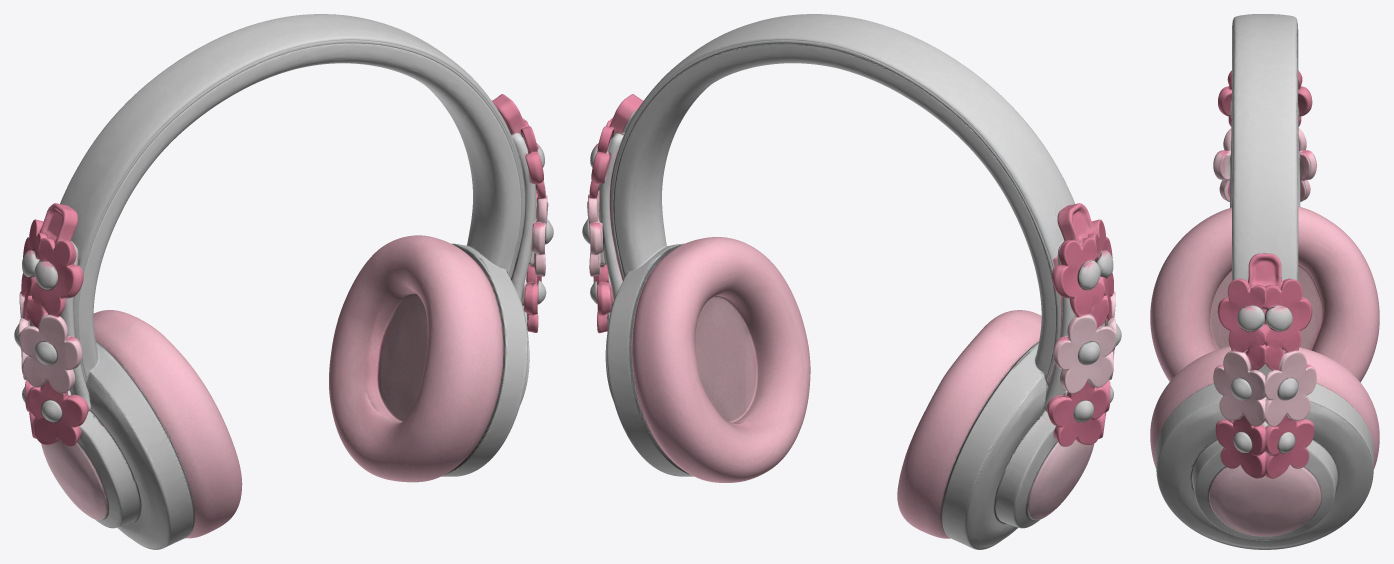
The model's file is Headphone.glb.
The picture shows the model from 3 angles, left to right: view 1: azimuth 30°, elevation 25°; view 2: azimuth 150°, elevation 25°; view 3: azimuth 270°, elevation 25°; orthographic projection. The views are drawn at different scales.
Visible parts, largest first — view 1: mesh_0; view 2: mesh_0; view 3: mesh_0.
Boxes of the visible parts, bbox=[...] form: mesh_0: bbox=[14, 14, 553, 549]; mesh_0: bbox=[582, 14, 1121, 549]; mesh_0: bbox=[1150, 14, 1379, 549].
Bounding box in the file's own units: 1.9 × 1.64 × 0.767.
Materials: 1 (1 with a texture image).
